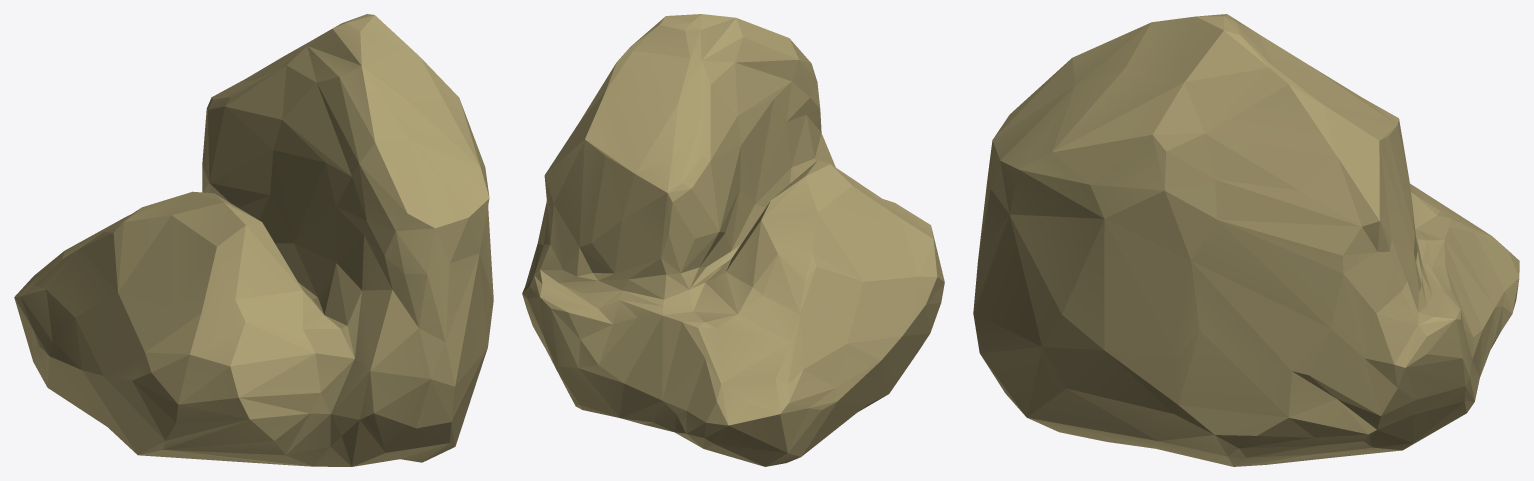
Rendered from SM_rock_43.fbx.
3 views of the same model, side by side, from view 1: azimuth 30°, elevation 25°; view 2: azimuth 150°, elevation 25°; view 3: azimuth 270°, elevation 25° (orthographic). The views are drawn at different scales.
Visible parts, largest first — view 1: rock_43; view 2: rock_43; view 3: rock_43.
Boxes of the visible parts, box(x1,y1,x2,y2) form: rock_43: box(14, 14, 493, 466); rock_43: box(522, 14, 944, 466); rock_43: box(973, 14, 1519, 466).
Bounding box in the file's own units: 138 × 149 × 170.
